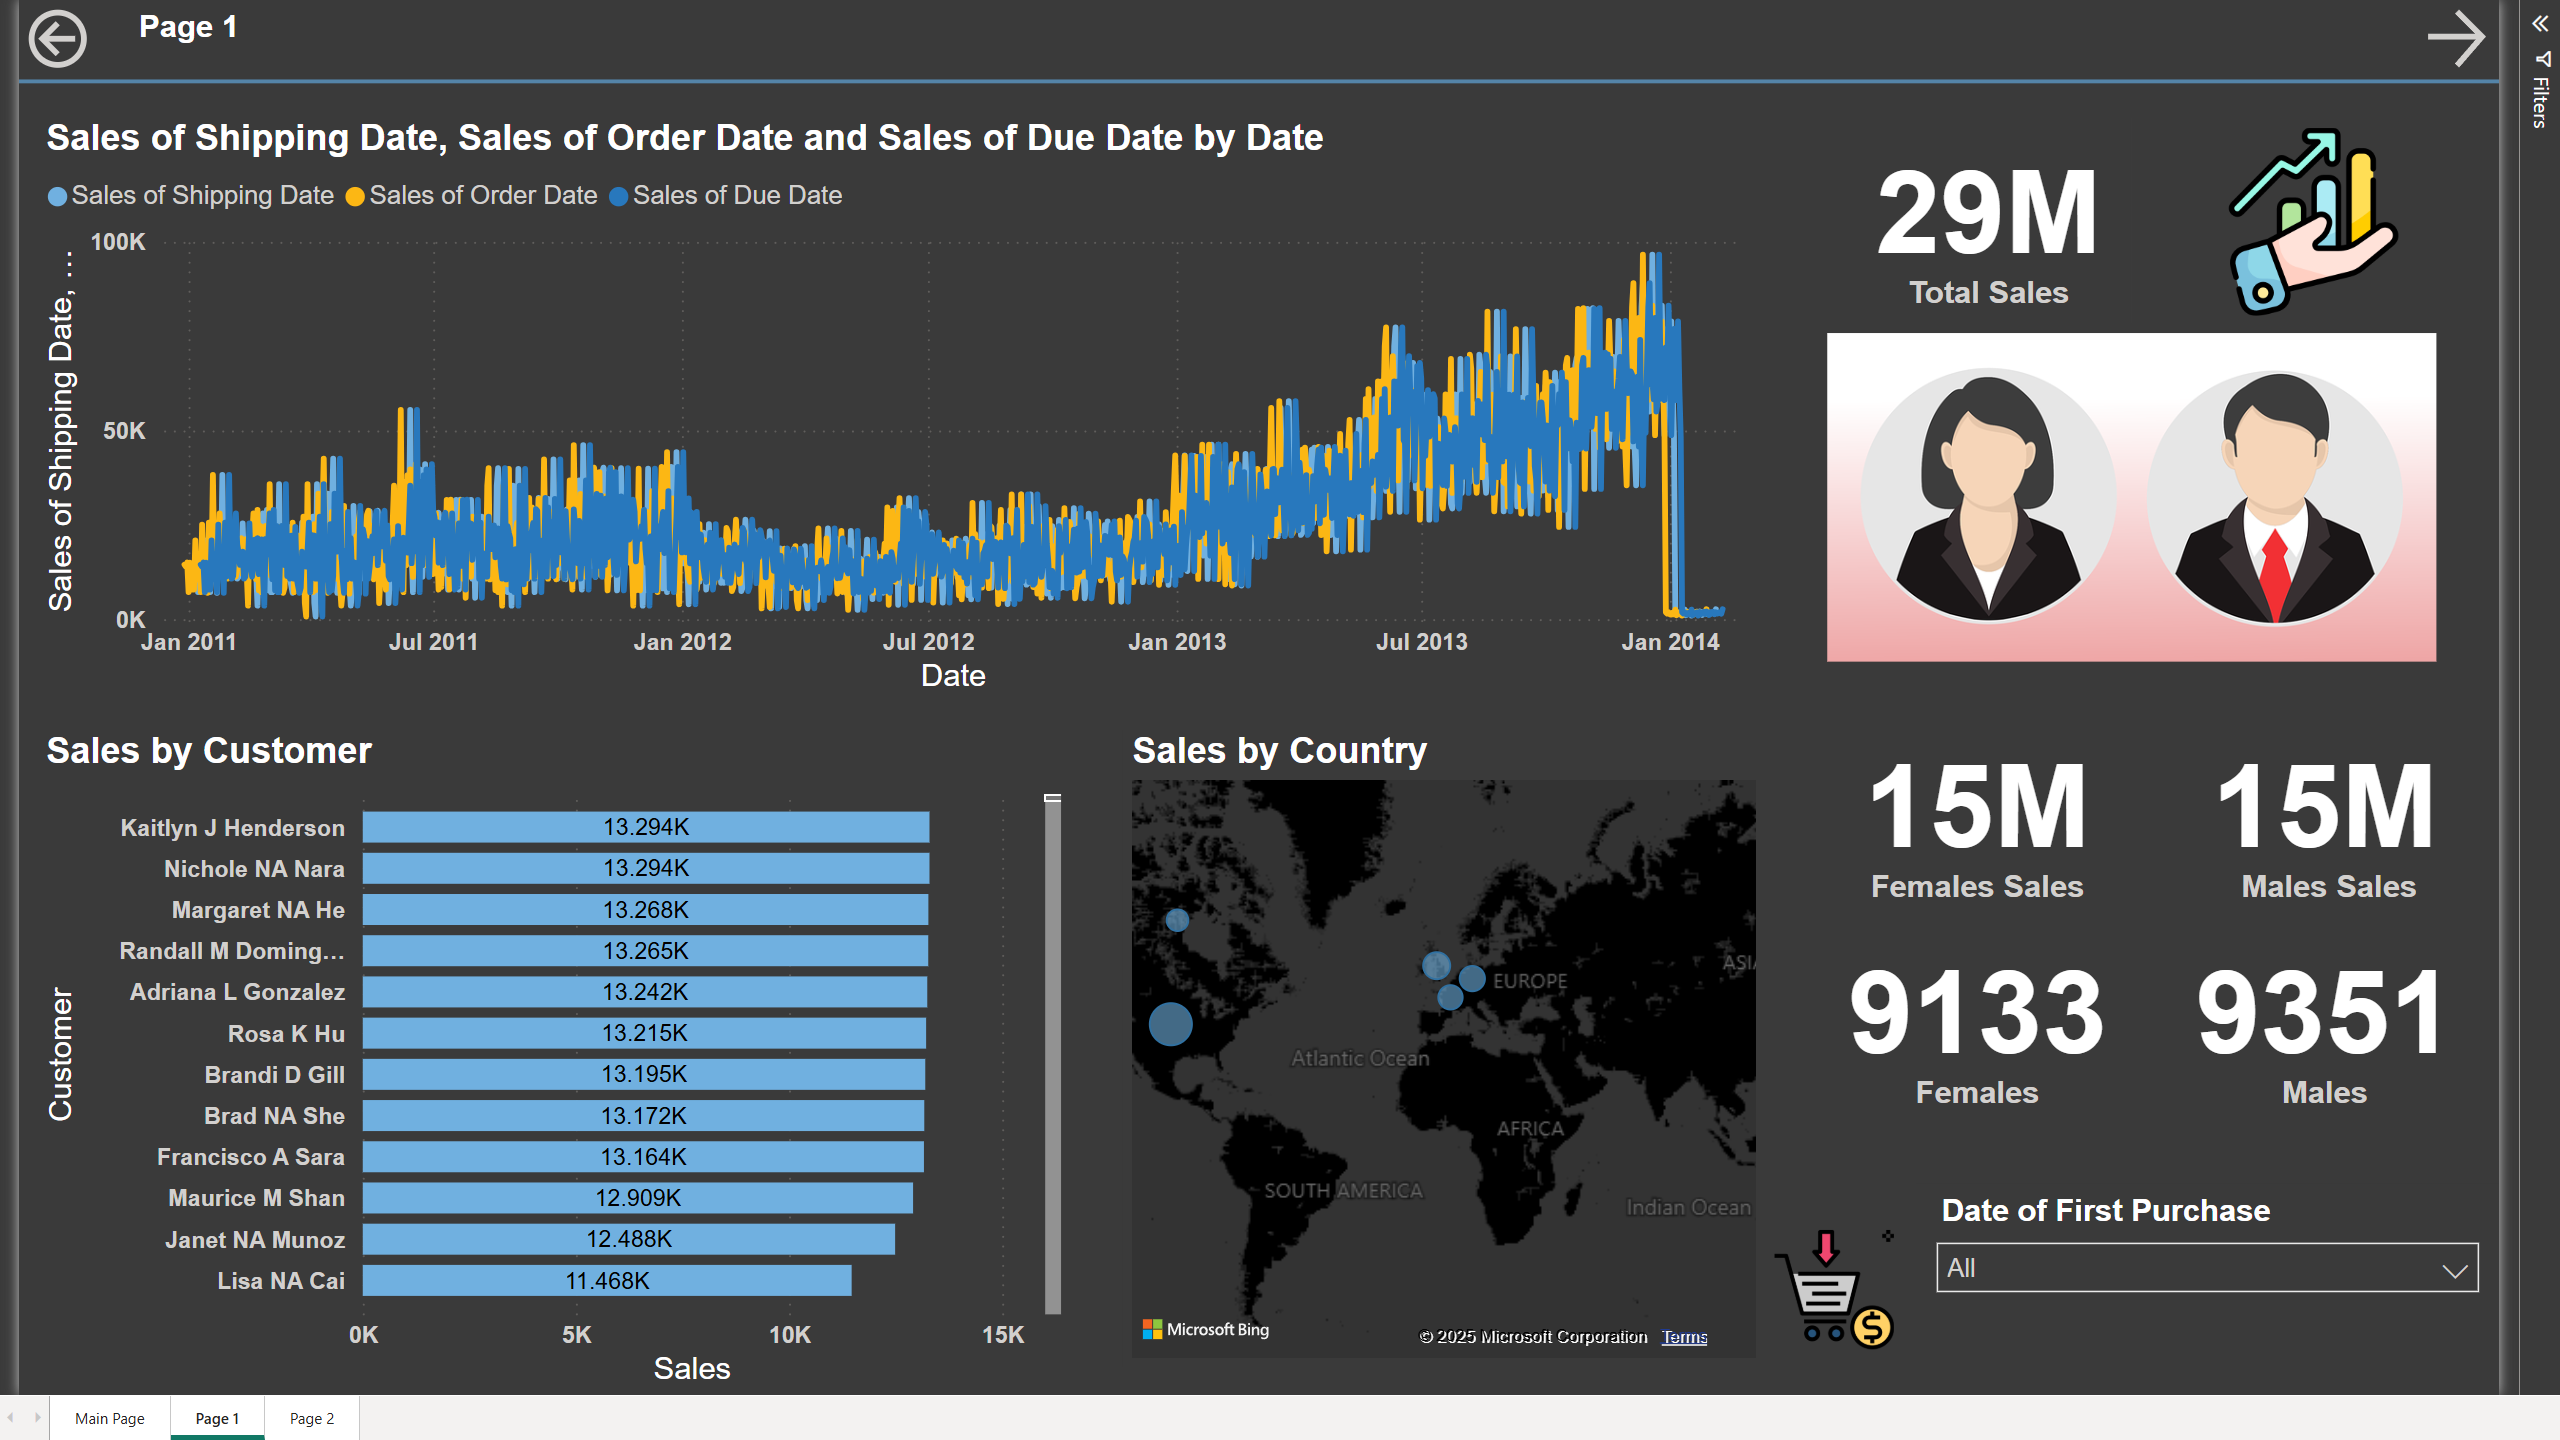

What the dashboard file says about the page in this screenshot:
{"tool":"powerbi","page":{"name":"Page 1","canvas":[1280,720],"ordinal":1},"visuals":[{"type":"barChart","fields":{"Category":["DimCustomer.FullName"],"Y":["FactInternetSales.SalesAmount"]},"box":[9,376.8,533.8,343.4],"z":0},{"type":"card","fields":{"Values":["DimCustomer.Female Sales"]},"box":[921,364.9,179.5,110.2],"z":1000},{"type":"card","fields":{"Values":["DimCustomer.Male Sales"]},"box":[1100.5,364.9,179.5,110.2],"z":2000},{"type":"shape","box":[0,0,1280,84],"z":3000},{"type":"actionButton","box":[1237.3,0,42.7,39.8],"z":4000},{"type":"lineChart","fields":{"Y":["FactInternetSales.Ship_Date","FactInternetSales.Total Sales of OrderDate","FactInternetSales.Total Sales of DueDate"],"Category":["DimDate.FullDateAlternateKey"]},"box":[8.8,60.5,901.5,301.5],"z":5000},{"type":"card","fields":{"Values":["DimCustomer.Total Males"]},"box":[1100.5,475.1,179.5,103.4],"z":6000},{"type":"card","fields":{"Values":["DimCustomer.Total Females"]},"box":[921,475.1,179.5,103.4],"z":7000},{"type":"map","fields":{"Category":["DimSalesTerritory.SalesTerritoryCountry"],"Size":["FactInternetSales.SalesAmount"]},"box":[569.8,376.6,331.7,328.8],"z":8000},{"type":"card","fields":{"Values":["FactInternetSales.SalesAmount"]},"box":[943.4,60.5,147.3,106.3],"z":9000},{"type":"image","box":[901.5,166.8,378.5,179.5],"z":10000},{"type":"image","box":[1100.5,61.5,166.8,106.3],"z":11000},{"type":"slicer","fields":{"Values":["DimCustomer.DateFirstPurchase"]},"box":[979.5,610.7,300.5,109.3],"z":12000},{"type":"actionButton","box":[0,0,99.5,40],"z":13000},{"type":"textbox","box":[49.8,0,76.1,40],"z":14000},{"type":"image","box":[901.5,611.7,71.2,108.3],"z":15000}]}

Visuals, with their boxes on the page's 1280x720 design canvas (x1, y1, x2, y2). These are canvas units, not pixel positions in the 2560x1440 screenshot, which may show the page scaled, cropped or inside an application window:
barChart - DimCustomer.FullName x FactInternetSales.SalesAmount: 9, 377, 543, 720
card - DimCustomer.Female Sales: 921, 365, 1100, 475
card - DimCustomer.Male Sales: 1100, 365, 1280, 475
shape: 0, 0, 1280, 84
actionButton: 1237, 0, 1280, 40
lineChart - FactInternetSales.Ship_Date x FactInternetSales.Total Sales of OrderDate: 9, 60, 910, 362
card - DimCustomer.Total Males: 1100, 475, 1280, 578
card - DimCustomer.Total Females: 921, 475, 1100, 578
map - DimSalesTerritory.SalesTerritoryCountry x FactInternetSales.SalesAmount: 570, 377, 902, 705
card - FactInternetSales.SalesAmount: 943, 60, 1091, 167
image: 902, 167, 1280, 346
image: 1100, 62, 1267, 168
slicer - DimCustomer.DateFirstPurchase: 980, 611, 1280, 720
actionButton: 0, 0, 100, 40
textbox: 50, 0, 126, 40
image: 902, 612, 973, 720
